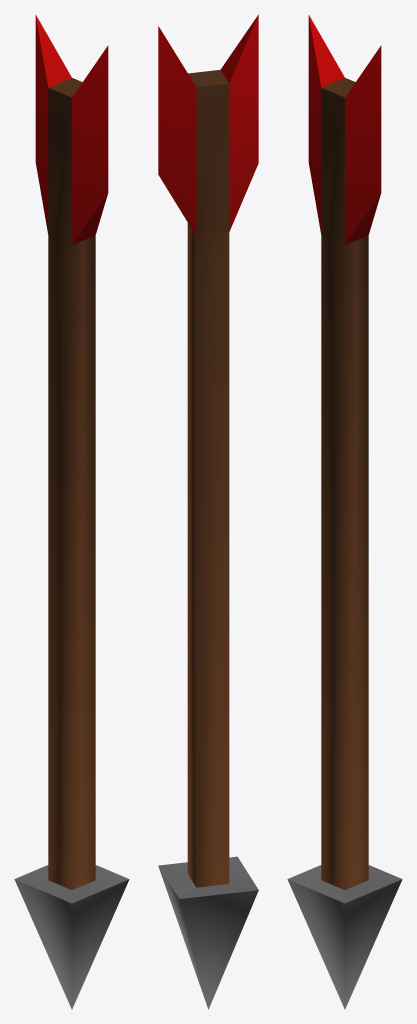
File: PROP_018_Arrow.fbx
The picture shows the model from 3 angles, left to right: view 1: azimuth 90°, elevation 25°; view 2: azimuth 150°, elevation 25°; view 3: azimuth 270°, elevation 25°; orthographic projection.
Visible parts, largest first — view 1: PROP_018_Arrow; view 2: PROP_018_Arrow; view 3: PROP_018_Arrow.
Part boxes in pixels (left/top/right/bottom): PROP_018_Arrow: left=14, top=15, right=129, bottom=1009; PROP_018_Arrow: left=158, top=14, right=258, bottom=1009; PROP_018_Arrow: left=287, top=15, right=402, bottom=1009.
Bounding box in the file's own units: 1.2 × 11.3 × 1.2.
